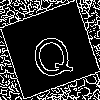Q: (25, 24, 76, 84)
